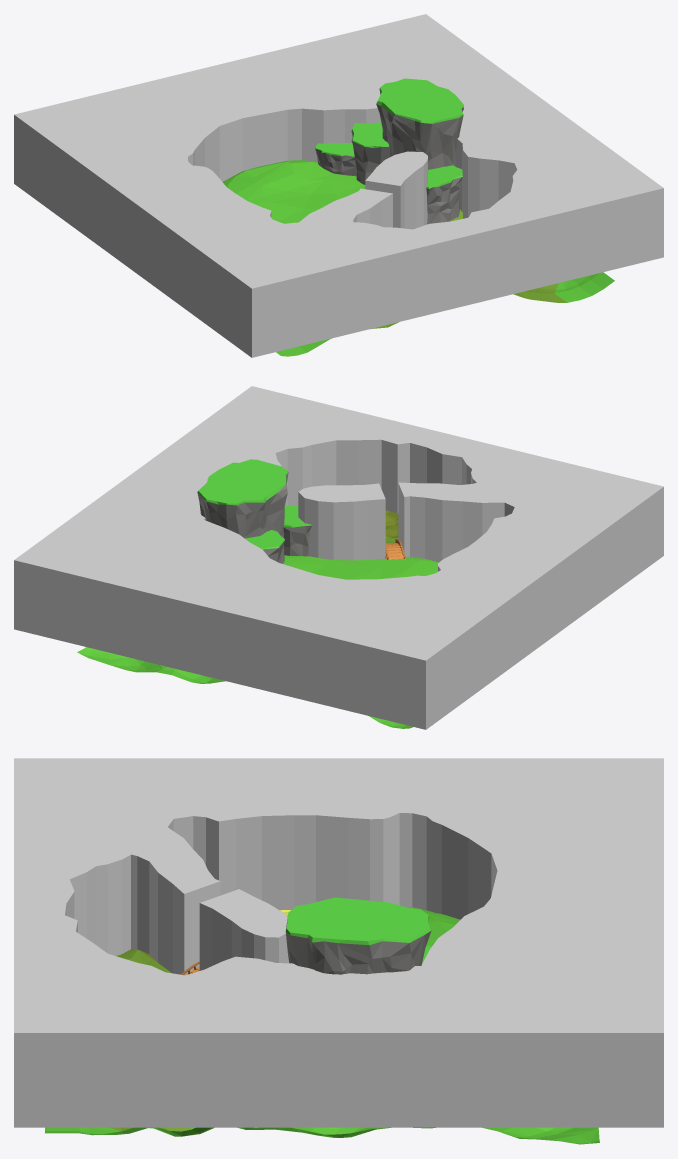
Rendered from terrain.glb.
3 views of the same model, one above another, from view 1: azimuth 30°, elevation 25°; view 2: azimuth 150°, elevation 25°; view 3: azimuth 270°, elevation 25° (orthographic). The views are drawn at different scales.
Parts seen in each view (by area): view 1: Plane, terrain, cliff_simple.009, cliff_simple.006, cliff_simple.007, cliff_simple.005; view 2: Plane, cliff_simple.009, terrain, cliff_simple.006, cliff_simple.007; view 3: Plane, cliff_simple.009, terrain.
Part boxes in pixels (left/top/right/bottom): Plane: left=14, top=14, right=663, bottom=357; terrain: left=222, top=160, right=614, bottom=356; cliff_simple.009: left=376, top=78, right=463, bottom=169; cliff_simple.006: left=426, top=165, right=462, bottom=224; cliff_simple.007: left=351, top=122, right=389, bottom=184; cliff_simple.005: left=315, top=143, right=356, bottom=176; Plane: left=14, top=386, right=663, bottom=729; cliff_simple.009: left=197, top=459, right=288, bottom=563; terrain: left=77, top=510, right=438, bottom=728; cliff_simple.006: left=283, top=505, right=311, bottom=556; cliff_simple.007: left=245, top=530, right=284, bottom=562; Plane: left=14, top=758, right=663, bottom=1127; cliff_simple.009: left=285, top=897, right=431, bottom=974; terrain: left=45, top=907, right=599, bottom=1144.
Bounding box in the file's own units: 24.8 × 7.83 × 24.8.
